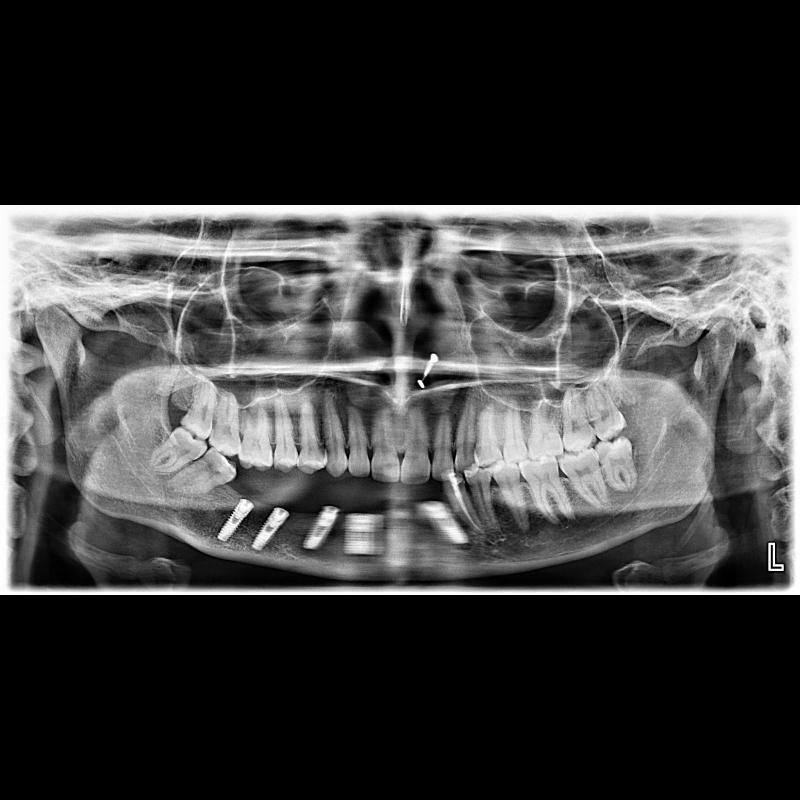osstem: (302, 503, 348, 555), (211, 493, 257, 543), (250, 508, 286, 553)
